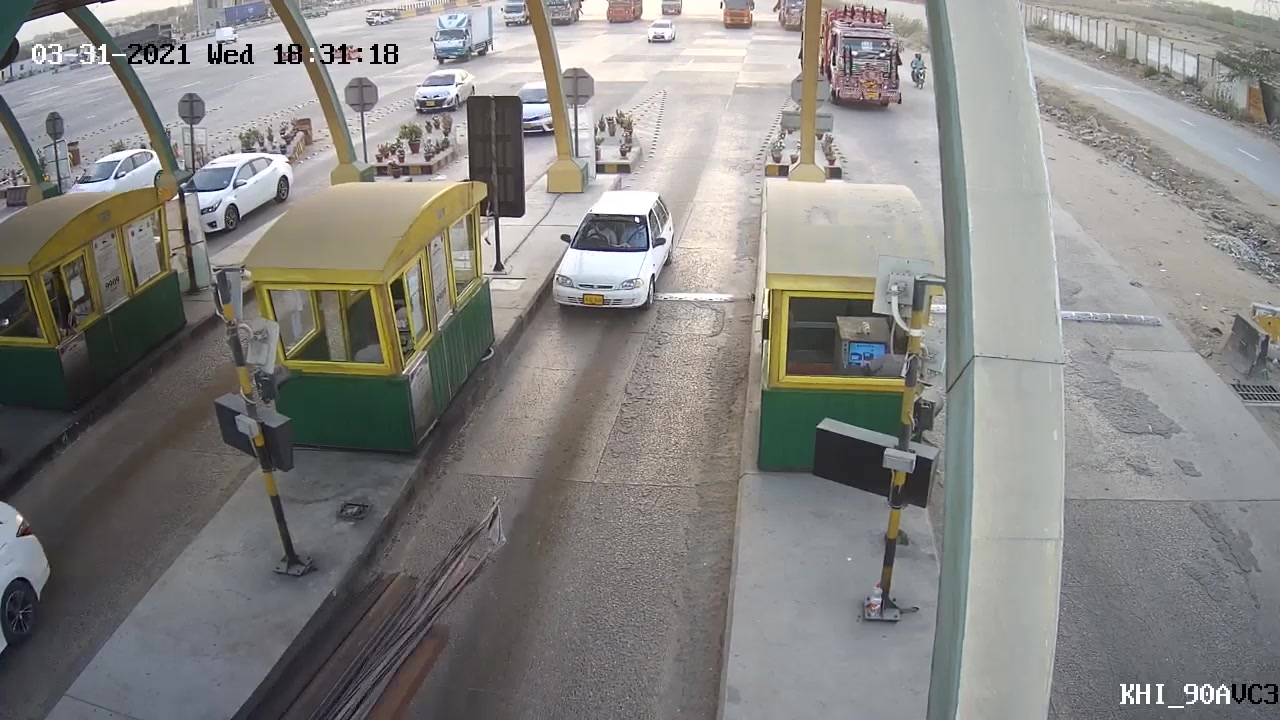F1: (550, 188, 678, 310)
